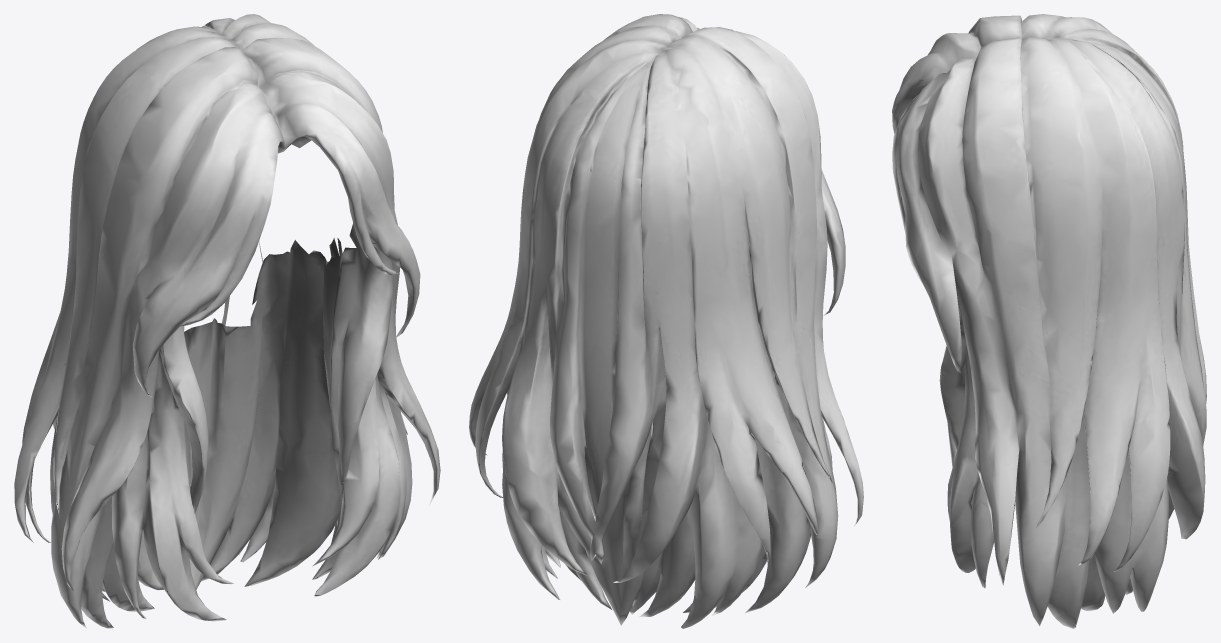
Rendered from hair-longstraight.glb.
3 renders of one model, left to right at view 1: azimuth 30°, elevation 25°; view 2: azimuth 150°, elevation 25°; view 3: azimuth 270°, elevation 25°, orthographic. The views are drawn at different scales.
Visible parts, largest first — view 1: tripo_node_396c7c53-0851-46ed-a1d2-b9bffee36ff3; view 2: tripo_node_396c7c53-0851-46ed-a1d2-b9bffee36ff3; view 3: tripo_node_396c7c53-0851-46ed-a1d2-b9bffee36ff3.
Boxes of the visible parts, bbox=[...] form: tripo_node_396c7c53-0851-46ed-a1d2-b9bffee36ff3: bbox=[14, 14, 440, 628]; tripo_node_396c7c53-0851-46ed-a1d2-b9bffee36ff3: bbox=[469, 14, 863, 628]; tripo_node_396c7c53-0851-46ed-a1d2-b9bffee36ff3: bbox=[892, 14, 1206, 628].
Size of the model in its own units: 0.3288 by 0.5 by 0.2527.
Materials: 1 (1 with a texture image).
